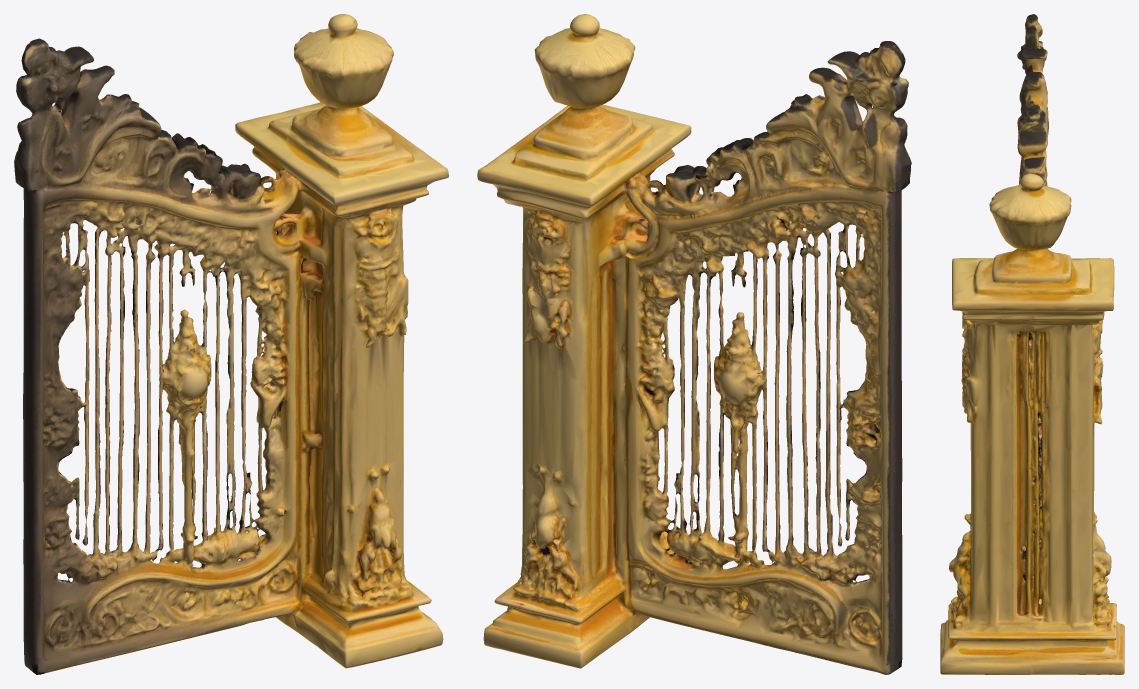
The model's file is golden-palace-gate.glb.
3 renders of one model, left to right at view 1: azimuth 30°, elevation 25°; view 2: azimuth 150°, elevation 25°; view 3: azimuth 270°, elevation 25°, orthographic. The views are drawn at different scales.
Bounding box in the file's own units: 1.23 × 2 × 0.6392.
Materials: 1 (1 with a texture image).
